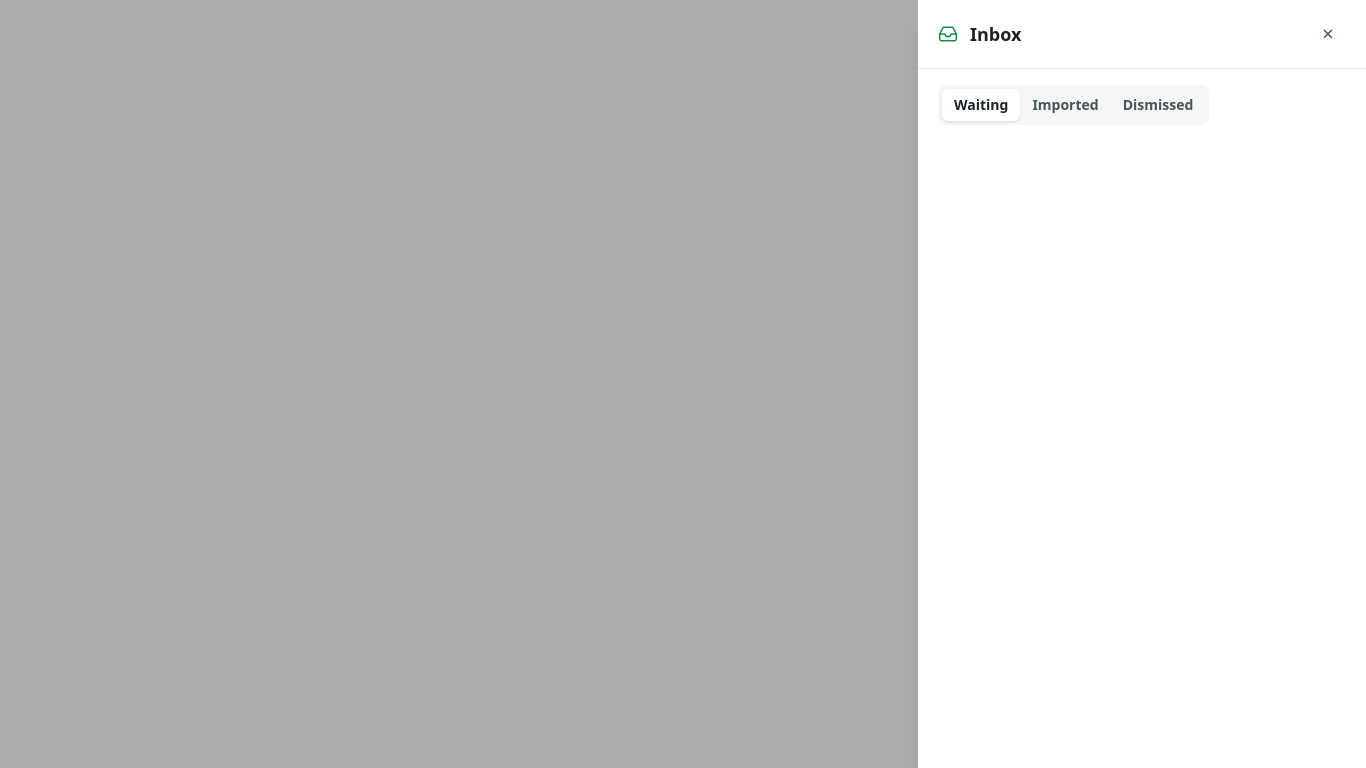
Test: the inbox drawer › switching tabs before a slow list arrives: the tab you're on wins
This screenshot has width=1366, height=768.
Click the tab "Imported": point(1066, 105) [1020,89,1111,121]
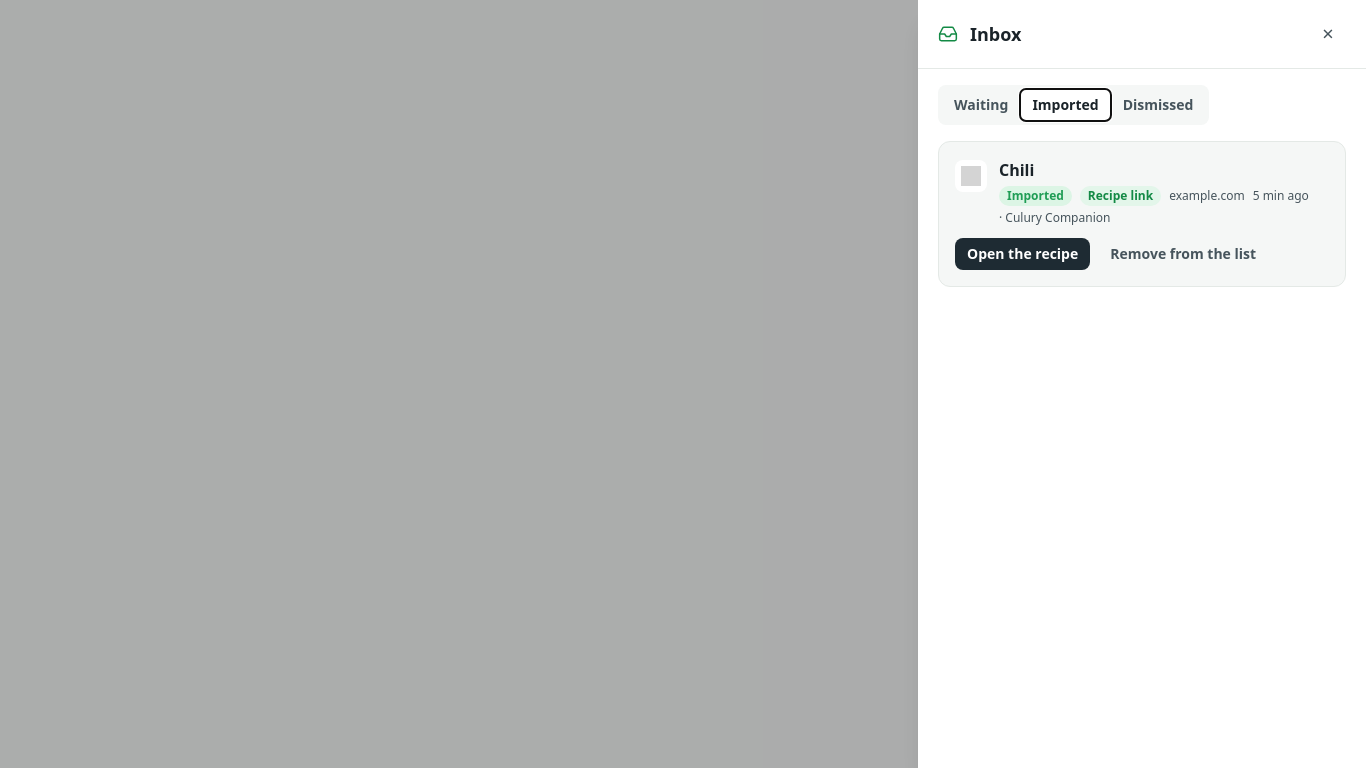
Result: the list "Imported" shows "Chili" at [999,158,1329,182]
